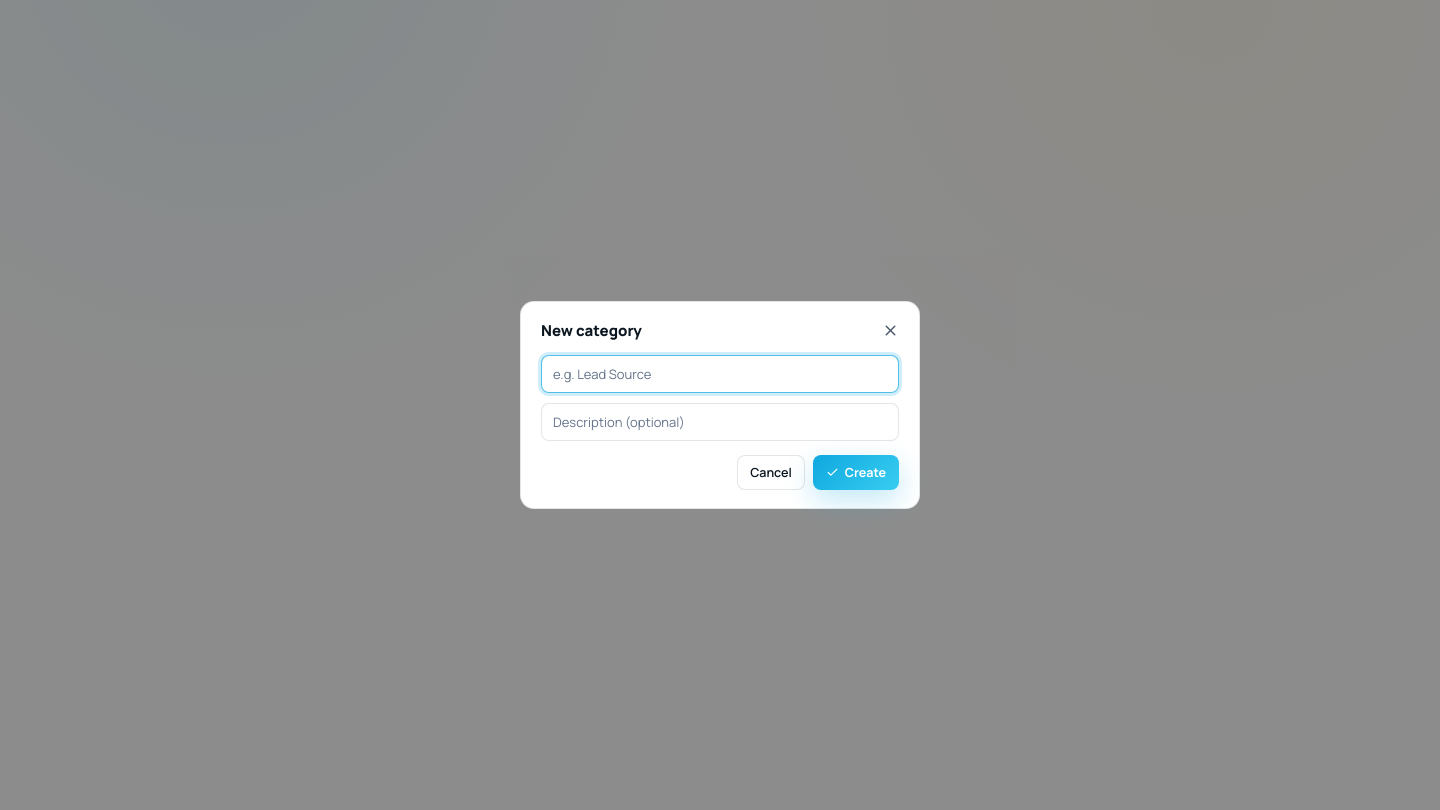
it: CreateCategoryModal › re-enables after a failure
This screenshot has width=1440, height=810.
Type "Industry" into the field with placeholder "e.g. Lead Source" at x=720, y=374, box [541,355,899,393]
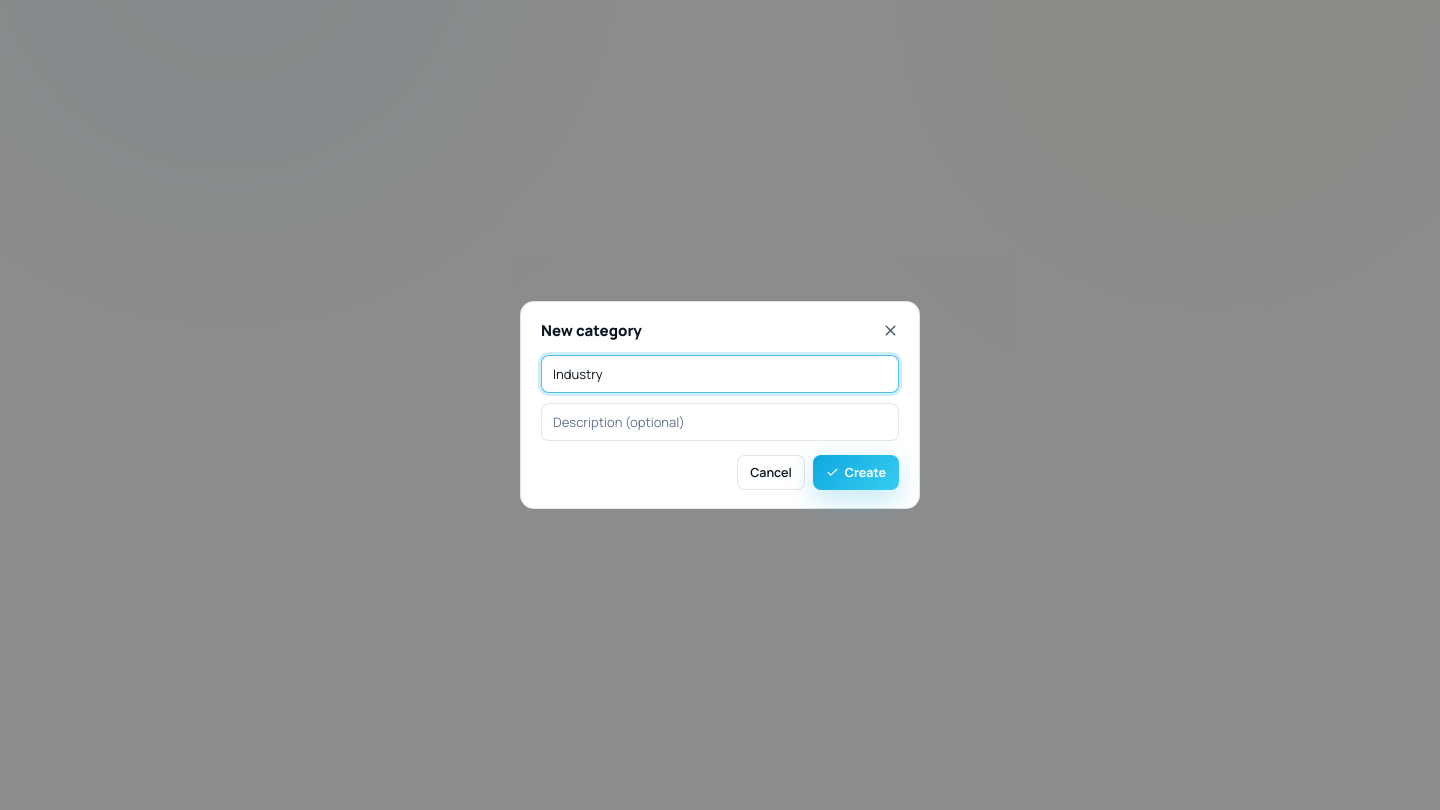
Click the button "Create" at x=856, y=472, box [813,455,899,490]
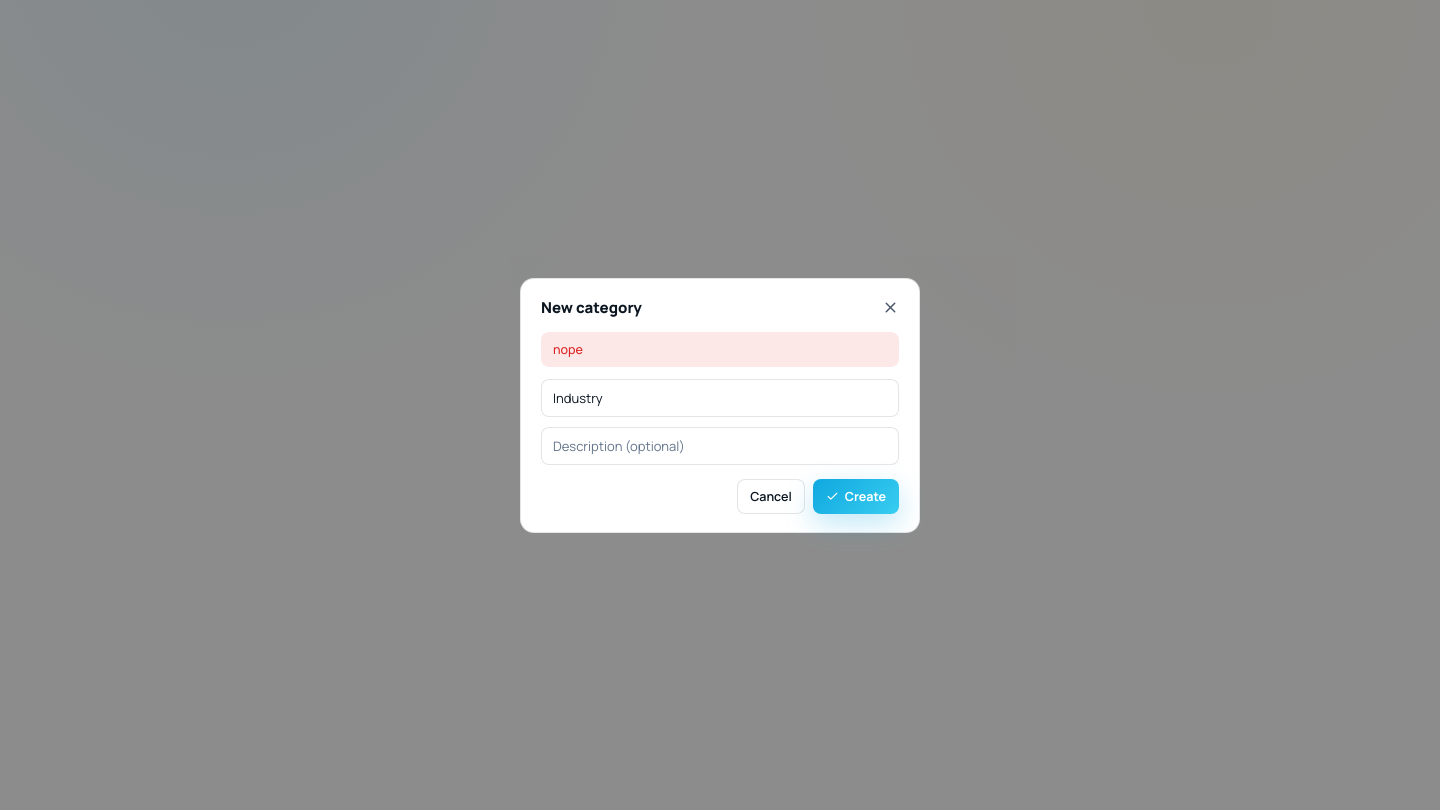
Expected: the button "Create" is enabled, [813,478,899,514]
Expected: the message "nope" is shown, [541,332,899,366]
